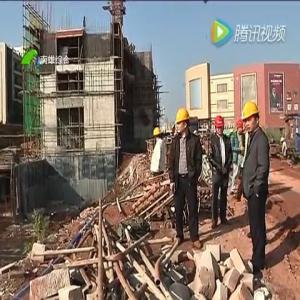red: (215, 116, 225, 138), (236, 120, 245, 138)
yellow: (243, 102, 260, 135), (176, 107, 190, 135), (153, 126, 162, 141)
